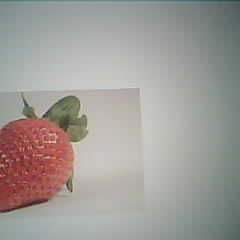straw-ripe: (0, 112, 73, 214)
